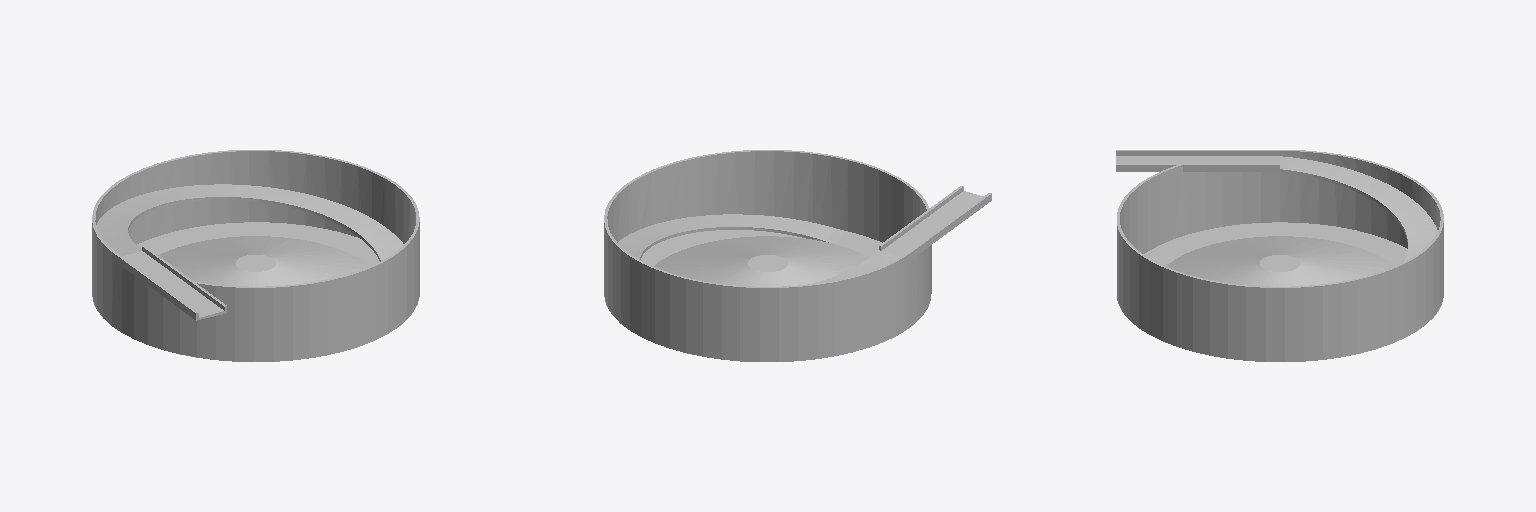
Rendered from feeder_bowl.obj.
3 renders of one model, left to right at view 1: azimuth 30°, elevation 25°; view 2: azimuth 150°, elevation 25°; view 3: azimuth 270°, elevation 25°, orthographic.
Visible parts, largest first — view 1: body_1; view 2: body_1; view 3: body_1.
Part boxes in pixels (bbox=[...]): body_1: bbox=[92, 150, 419, 361]; body_1: bbox=[604, 150, 991, 361]; body_1: bbox=[1116, 150, 1443, 361].
Size of the model in its own units: 0.7998 by 0.2 by 0.801.